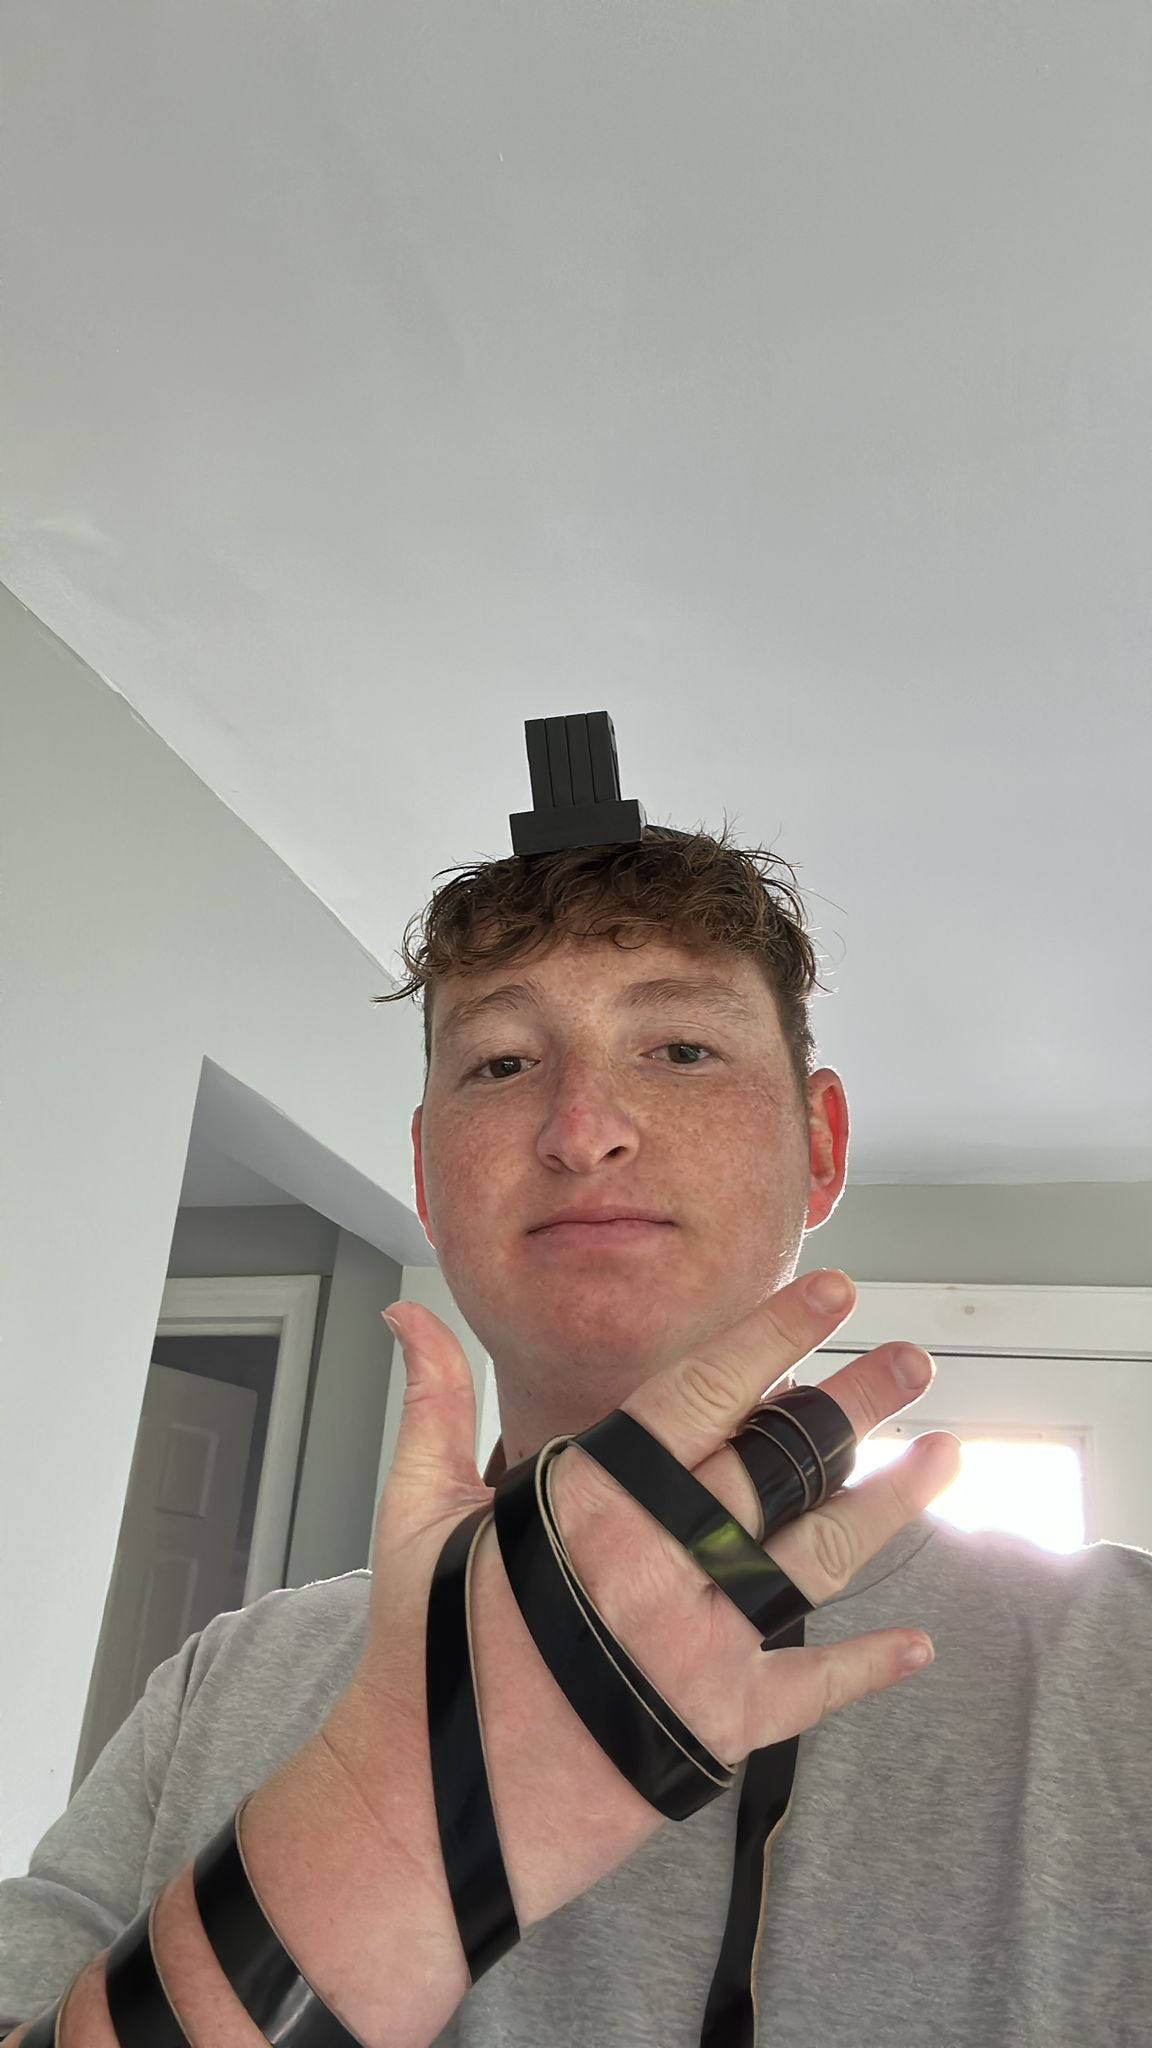tefillin: (504, 708, 644, 862)
